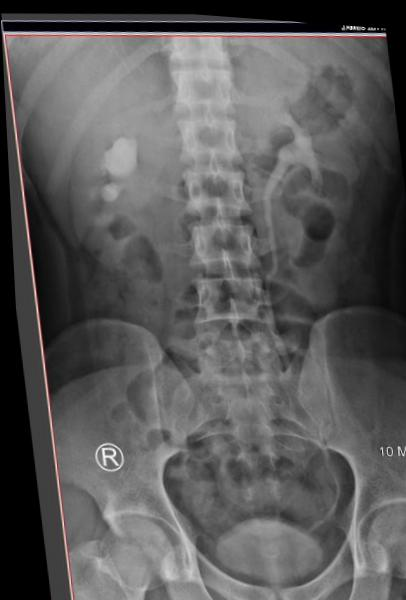bladder: (178, 516, 326, 599)
vertebrae: (154, 101, 233, 171)
